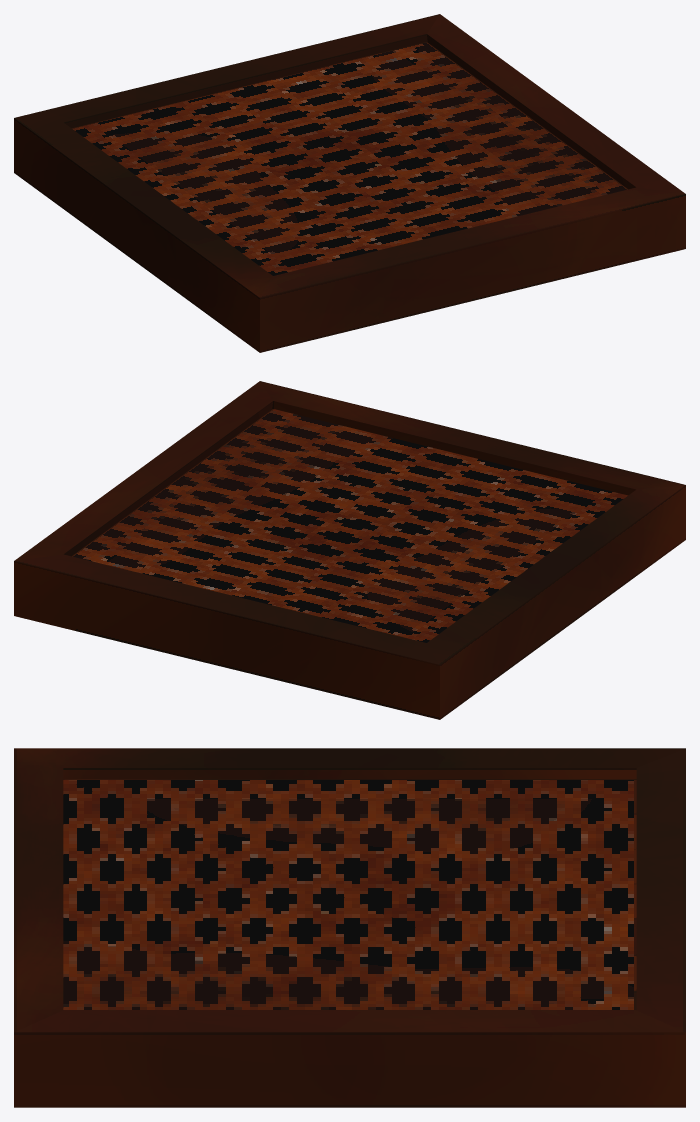
The model's file is most.glb.
3 views of the same model, one above another, from view 1: azimuth 30°, elevation 25°; view 2: azimuth 150°, elevation 25°; view 3: azimuth 270°, elevation 25° (orthographic). The views are drawn at different scales.
Visible parts, largest first — view 1: Cube; view 2: Cube; view 3: Cube.
Part boxes in pixels (<box>): Cube: <box>14,14,685,352</box>; Cube: <box>14,381,685,719</box>; Cube: <box>14,748,685,1107</box>.
Size of the model in its own units: 2 by 0.2579 by 2.
1 material, 1 textured.
